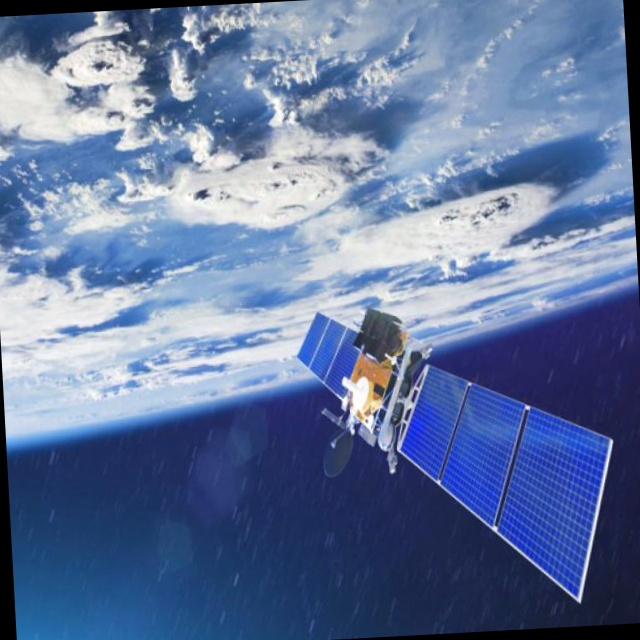satellite: (292, 285, 627, 626)
